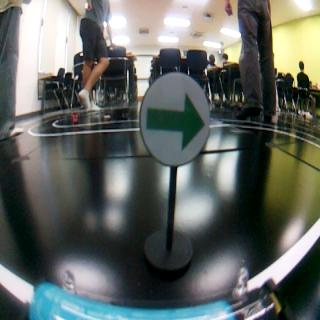right: (142, 70, 208, 160)
